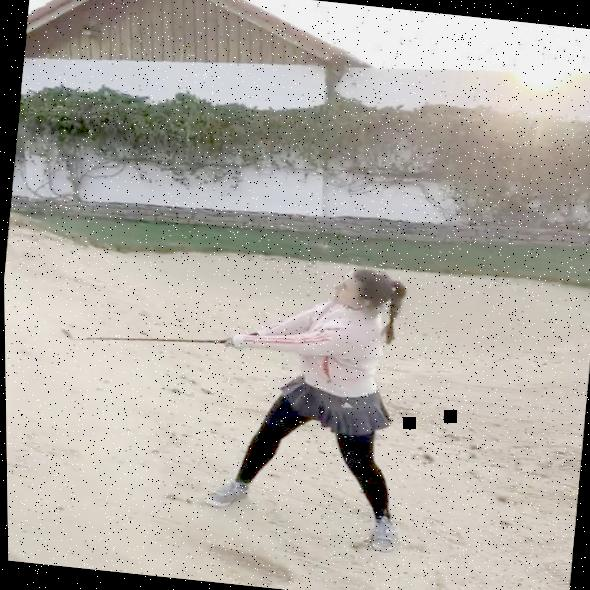ClubHead: (61, 328, 75, 344)
